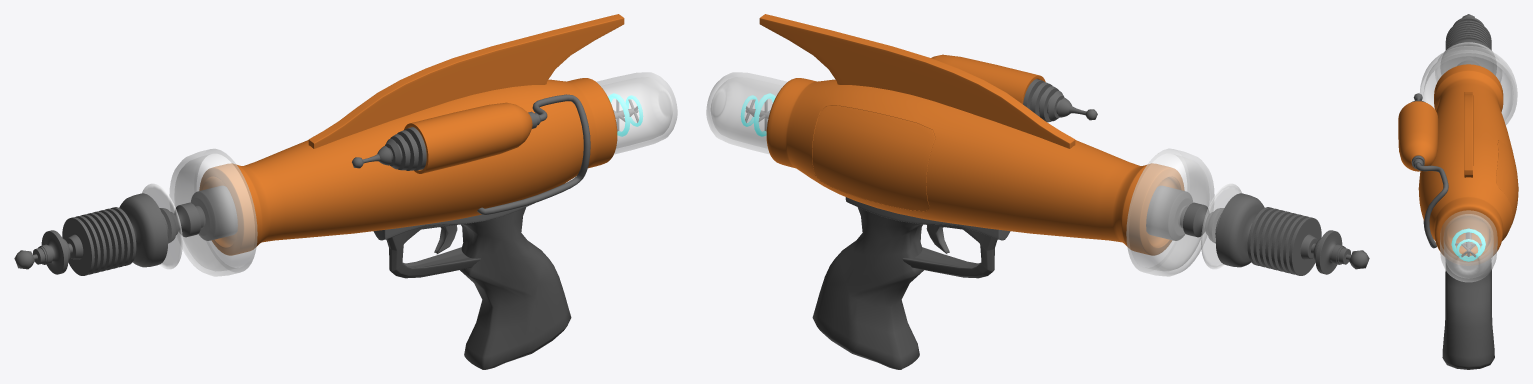
Rendered from gun.glb.
The picture shows the model from 3 angles, left to right: view 1: azimuth 30°, elevation 25°; view 2: azimuth 150°, elevation 25°; view 3: azimuth 270°, elevation 25°; orthographic projection. The views are drawn at different scales.
Visible parts, largest first — view 1: Object_3, Object_2, Object_14, Object_12, Object_11, Object_9, Object_5, Object_4, Object_8, Object_10, Object_6; view 2: Object_3, Object_2, Object_14, Object_12, Object_11, Object_9, Object_5, Object_4, Object_10, Object_6; view 3: Object_3, Object_14, Object_12, Object_2, Object_5, Object_11, Object_8, Object_13, Object_4, Object_6, Object_7.
Part boxes in pixels (left/top/right/bottom): Object_3: left=199, top=78, right=617, bottom=255; Object_2: left=308, top=14, right=624, bottom=173; Object_14: left=142, top=72, right=677, bottom=276; Object_12: left=386, top=207, right=571, bottom=369; Object_11: left=62, top=207, right=136, bottom=275; Object_9: left=174, top=186, right=237, bottom=240; Object_5: left=38, top=193, right=168, bottom=267; Object_4: left=14, top=99, right=638, bottom=269; Object_8: left=477, top=94, right=590, bottom=214; Object_10: left=377, top=127, right=426, bottom=170; Object_6: left=32, top=111, right=540, bottom=274; Object_3: left=766, top=78, right=1184, bottom=255; Object_2: left=759, top=14, right=1075, bottom=211; Object_14: left=706, top=72, right=1241, bottom=276; Object_12: left=812, top=207, right=997, bottom=369; Object_11: left=1247, top=207, right=1321, bottom=275; Object_9: left=1146, top=186, right=1209, bottom=240; Object_5: left=1215, top=193, right=1345, bottom=267; Object_4: left=745, top=99, right=1369, bottom=269; Object_10: left=1023, top=79, right=1071, bottom=122; Object_6: left=1315, top=230, right=1351, bottom=274; Object_3: left=1418, top=64, right=1515, bottom=265; Object_14: left=1420, top=42, right=1517, bottom=282; Object_12: left=1442, top=259, right=1494, bottom=369; Object_2: left=1398, top=92, right=1518, bottom=230; Object_5: left=1441, top=39, right=1496, bottom=74; Object_11: left=1445, top=20, right=1491, bottom=49; Object_8: left=1415, top=163, right=1448, bottom=248; Object_13: left=1451, top=229, right=1485, bottom=261; Object_4: left=1413, top=14, right=1481, bottom=256; Object_6: left=1411, top=17, right=1483, bottom=168; Object_7: left=1457, top=57, right=1480, bottom=65.
Size of the model in its own units: 14.87 by 6.84 by 3.09.
